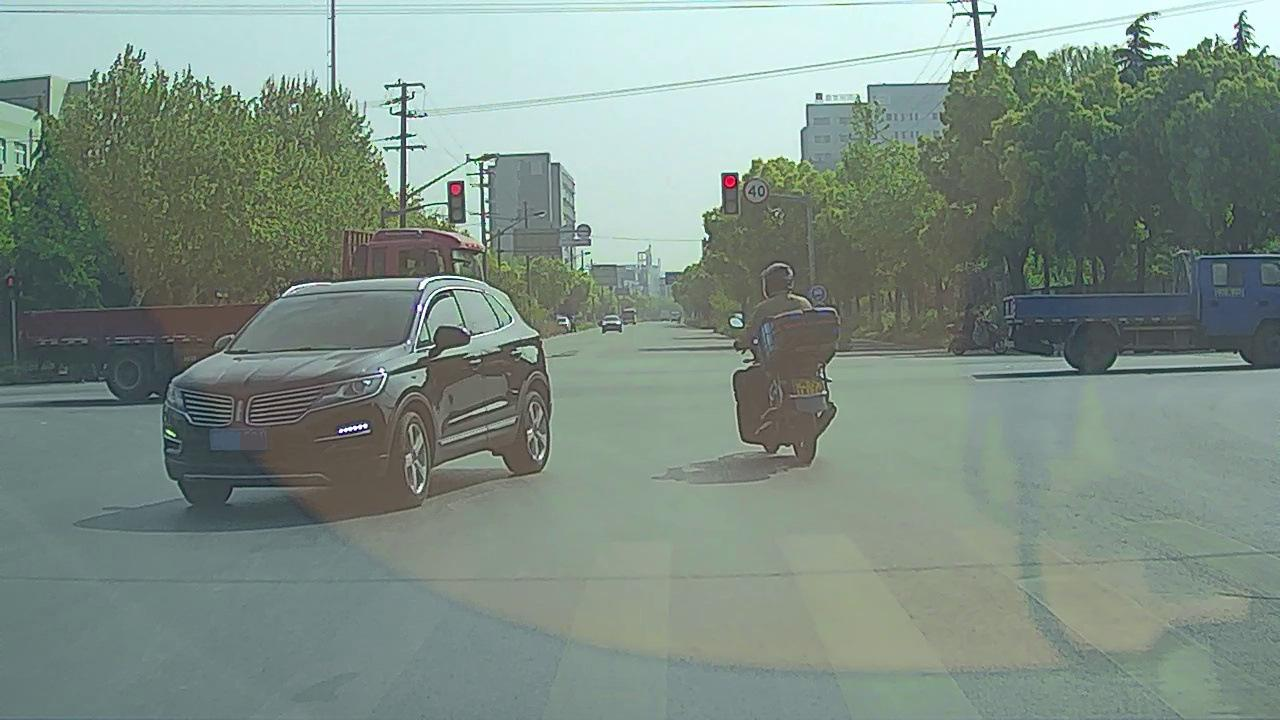traffic_light: (722, 171, 739, 215), (449, 183, 464, 222)
